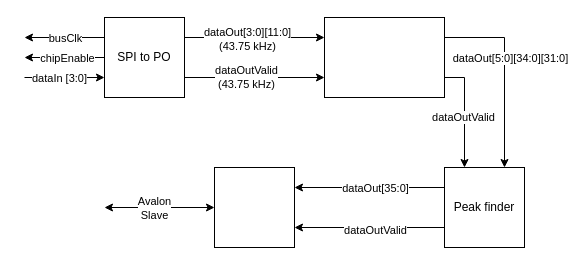
This 585x265 diagram has some shape labels left out. The centre of each missing label's shape, as x and y in pixels:
Moving window Cross correlation: the point at 384,57
Peripheral: the point at 254,207
